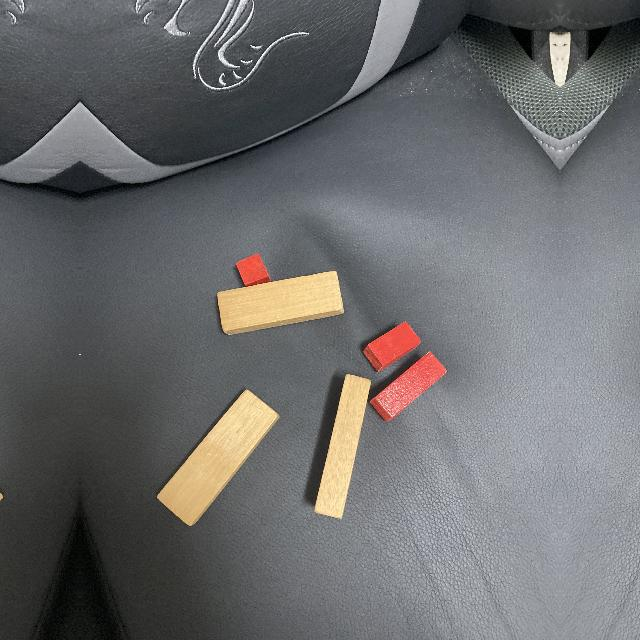jenga: (157, 390, 280, 527), (314, 374, 371, 520), (217, 271, 344, 335)
red block: (369, 352, 447, 422), (363, 322, 421, 373)
red cube: (236, 254, 271, 287)
